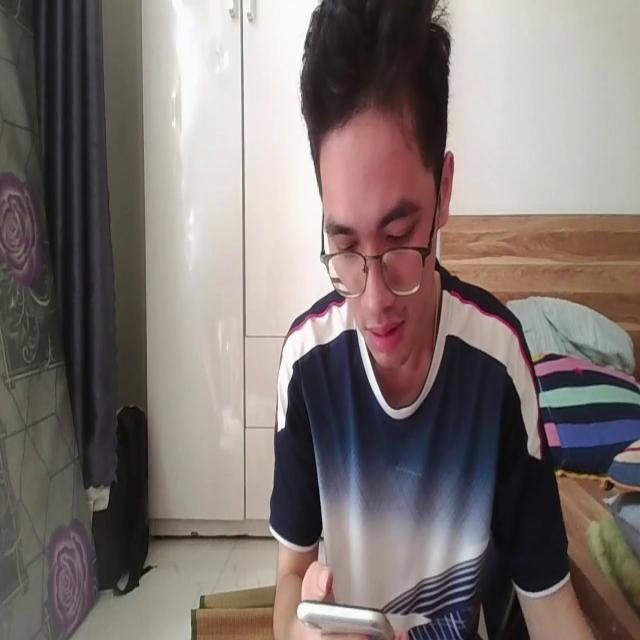phone: (296, 591, 398, 640)
student: (269, 1, 598, 640)
